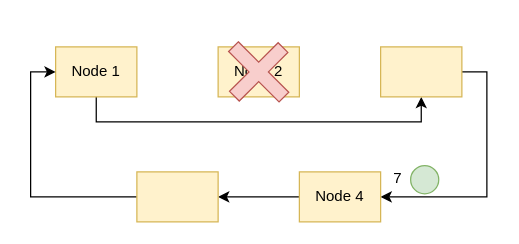
The diagram is 519 pixels wide and 244 high, and some of its shapes have lost their labels. The box of each missing label's shape, as (x1, y1, x2, y2) in pixels:
Node 3: (379, 46, 462, 97)
Node 5: (136, 171, 218, 222)
